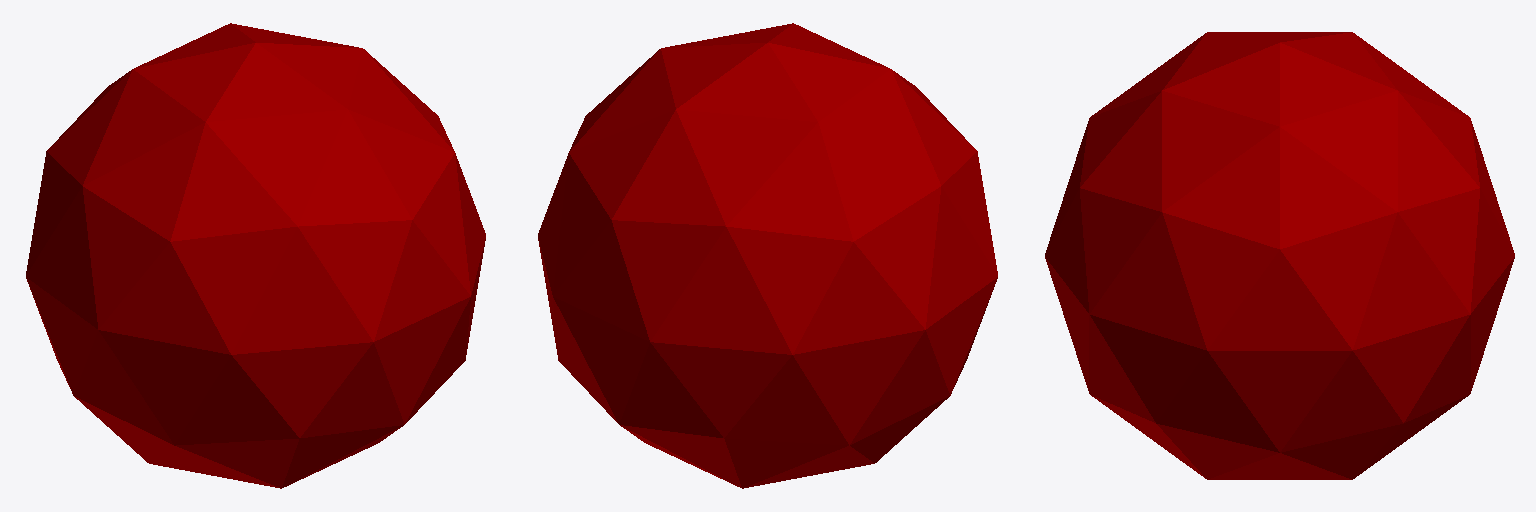
File: ruby.obj
The picture shows the model from 3 angles: view 1: azimuth 30°, elevation 25°; view 2: azimuth 150°, elevation 25°; view 3: azimuth 270°, elevation 25°; orthographic projection.
Visible parts, largest first — view 1: Icosphere_Icosphere.002; view 2: Icosphere_Icosphere.002; view 3: Icosphere_Icosphere.002.
Part boxes in pixels (bbox=[...]): Icosphere_Icosphere.002: bbox=[26, 23, 485, 488]; Icosphere_Icosphere.002: bbox=[538, 23, 997, 488]; Icosphere_Icosphere.002: bbox=[1045, 32, 1514, 479].
Bounding box in the file's own units: 1.9 × 2 × 2.